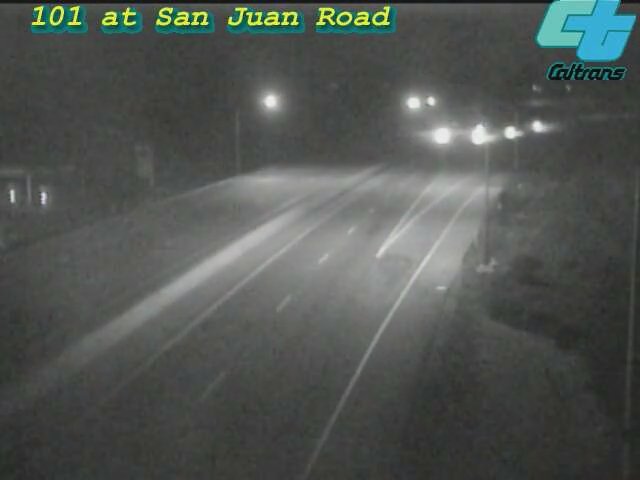vehicle: (419, 110, 469, 160), (452, 103, 502, 153), (510, 102, 560, 152), (485, 108, 535, 158), (453, 114, 503, 164)
